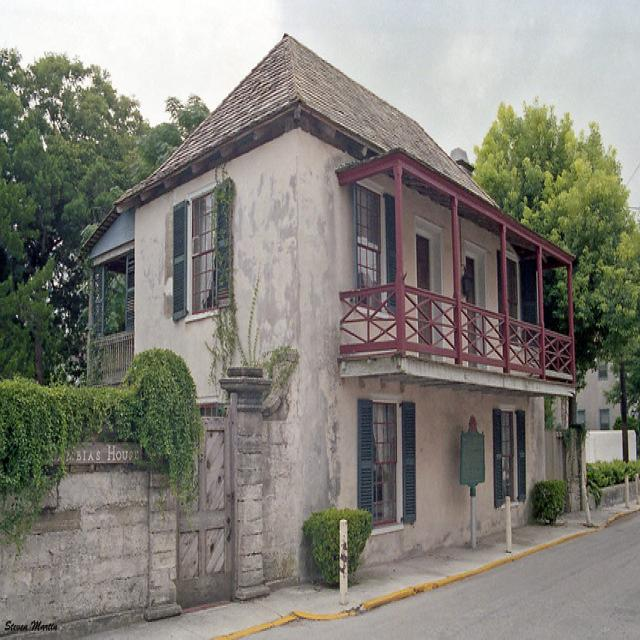building: (74, 29, 584, 575)
